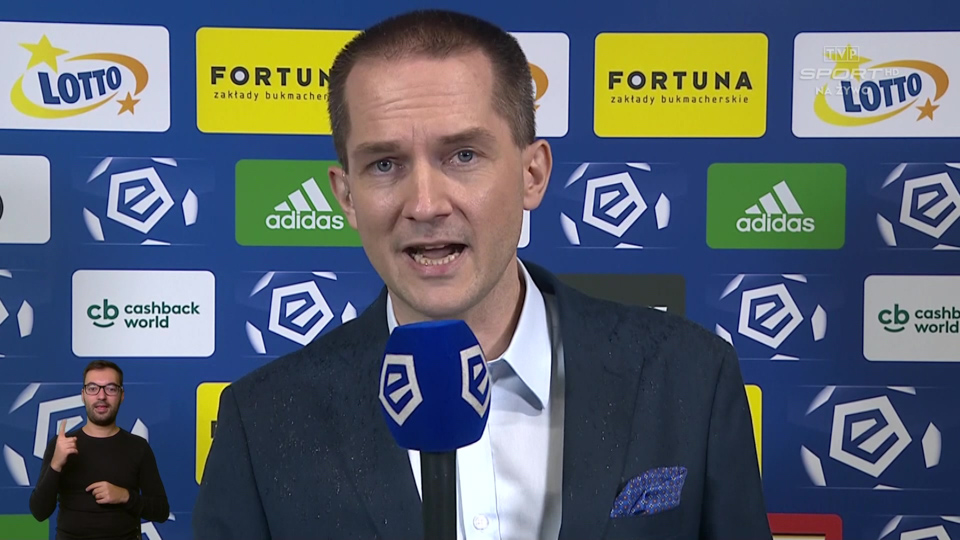Adidas: (265, 175, 344, 234), (735, 178, 817, 234)
